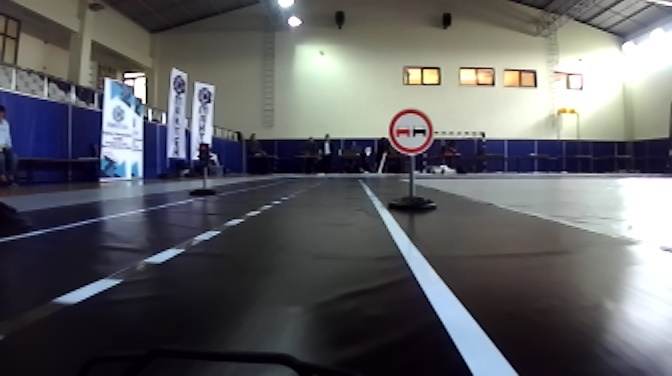sollama_yasak: (388, 110, 433, 156)
